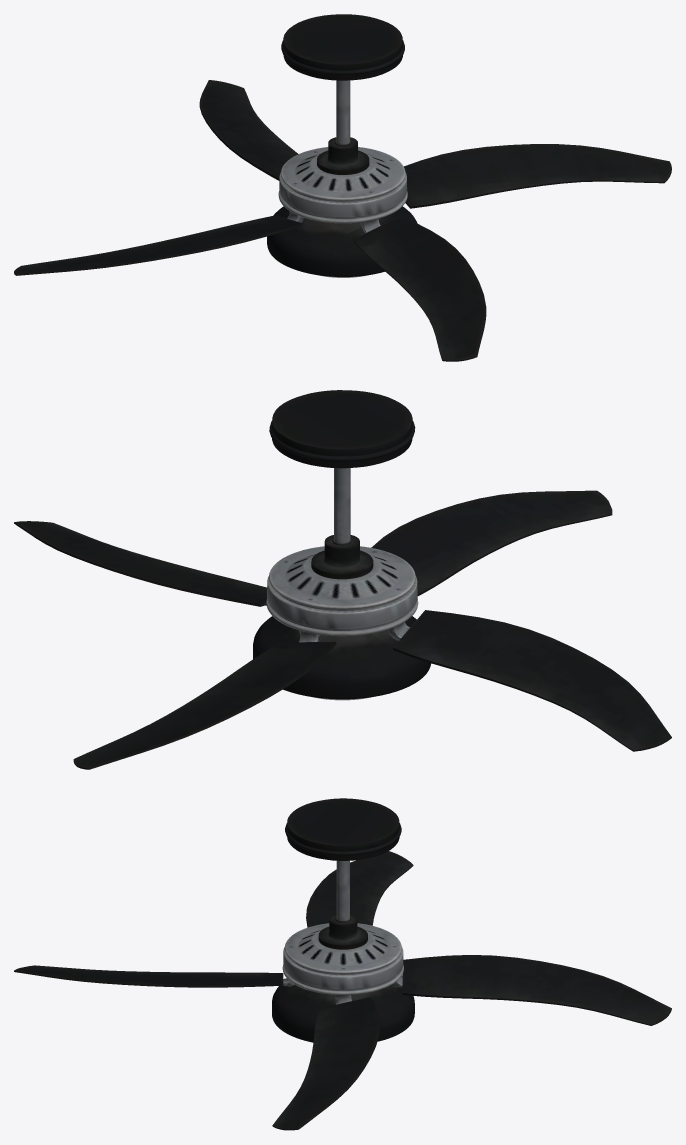
File: ceiling_fan.glb
3 views of the same model, one above another, from view 1: azimuth 30°, elevation 25°; view 2: azimuth 150°, elevation 25°; view 3: azimuth 270°, elevation 25° (orthographic). The views are drawn at different scales.
Parts seen in each view (by area): view 1: ceiling_fan; view 2: ceiling_fan; view 3: ceiling_fan.
Boxes of the visible parts, x1,y1,x2,y2 form: ceiling_fan: (14, 14, 671, 361); ceiling_fan: (14, 390, 671, 769); ceiling_fan: (14, 798, 671, 1130).
Size of the model in its own units: 1.46 by 0.5163 by 1.46.
1 material, 1 textured.
